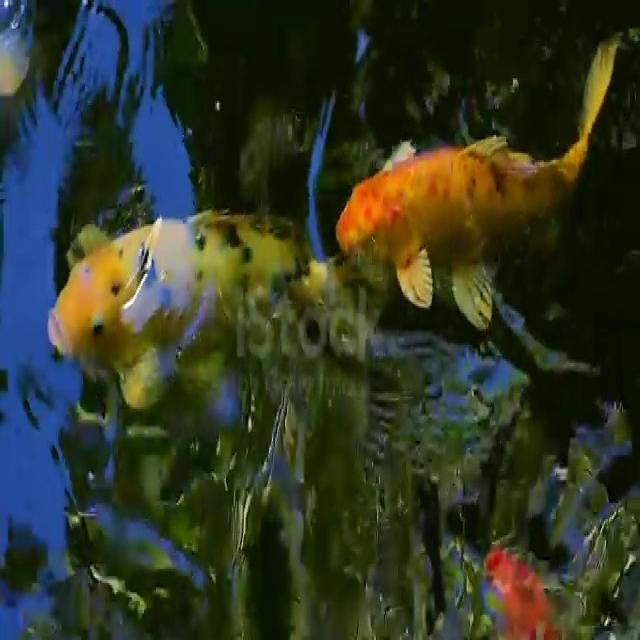fish: (324, 40, 631, 328), (39, 191, 344, 429)
